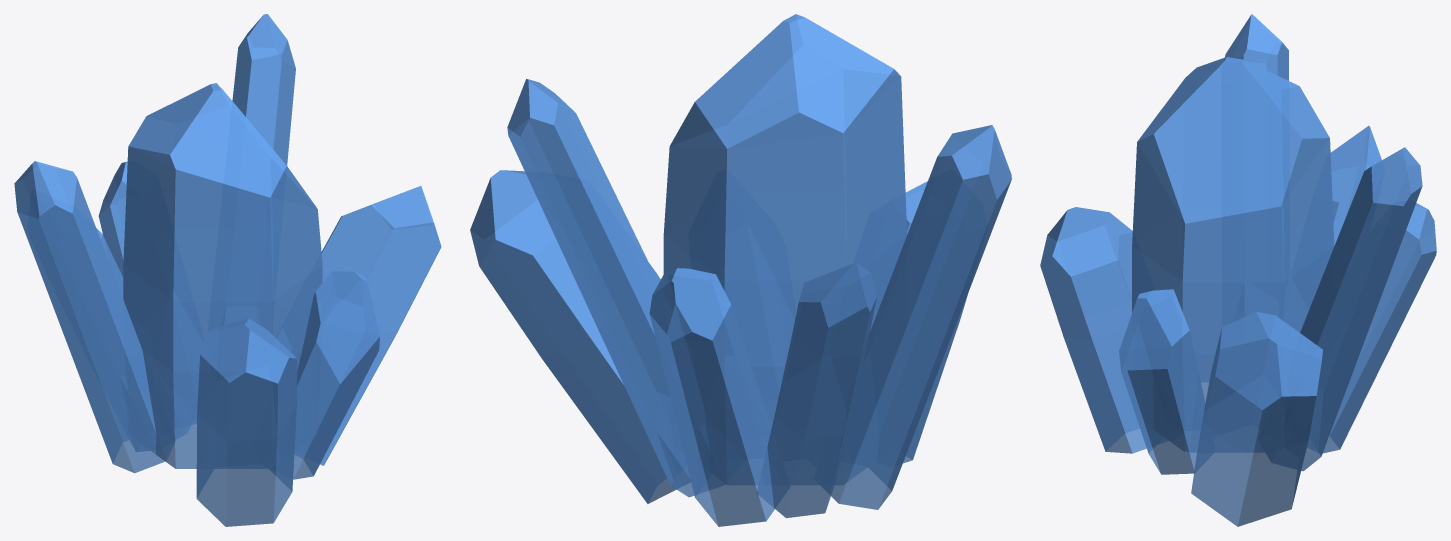
File: Crystals_l_01.fbx
3 views of the same model, side by side, from view 1: azimuth 30°, elevation 25°; view 2: azimuth 150°, elevation 25°; view 3: azimuth 270°, elevation 25° (orthographic). The views are drawn at different scales.
Parts seen in each view (by area): view 1: Crystals_l_01; view 2: Crystals_l_01; view 3: Crystals_l_01.
Part boxes in pixels (<box>): Crystals_l_01: <box>14,14,441,526</box>; Crystals_l_01: <box>470,14,1011,526</box>; Crystals_l_01: <box>1040,14,1436,526</box>.
Size of the model in its own units: 447 by 411 by 357.
